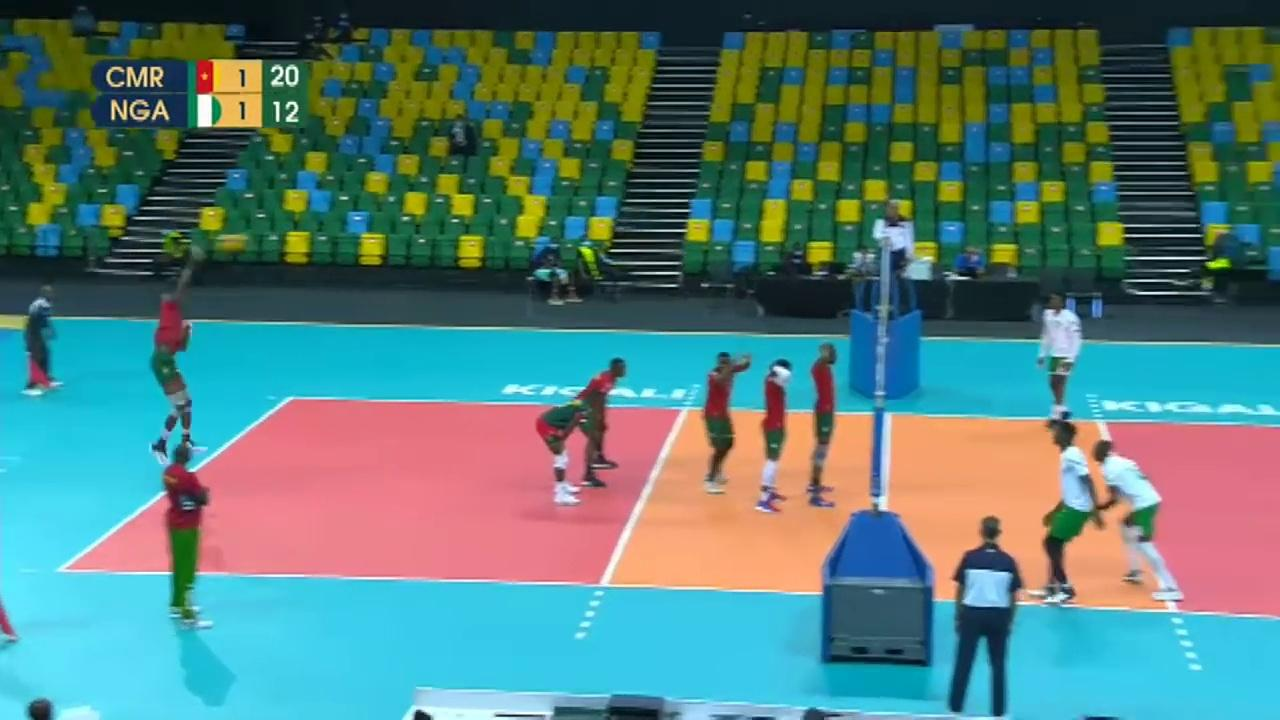player: (1095, 435, 1186, 603), (1041, 424, 1100, 599), (534, 392, 604, 504), (700, 349, 754, 494), (150, 283, 193, 458), (571, 358, 627, 489), (1034, 291, 1082, 426), (759, 359, 794, 516), (807, 339, 839, 507)
refree: (947, 516, 1025, 713), (871, 199, 914, 313), (23, 286, 61, 394)
